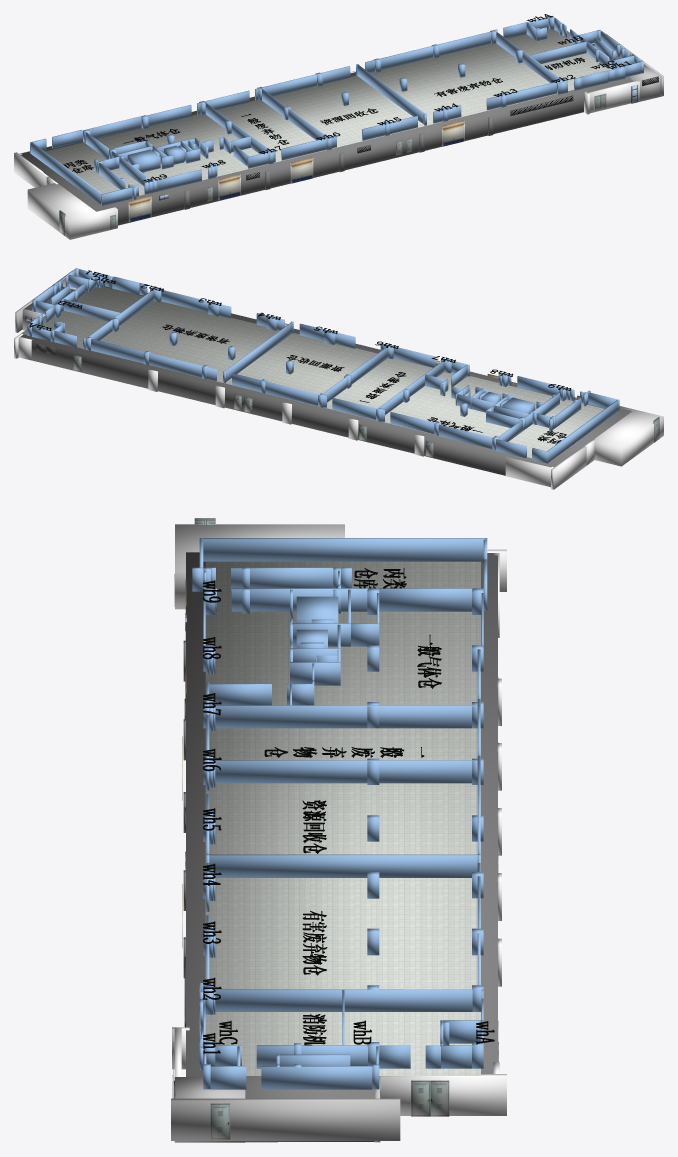
File: whfa_1f_mini.gltf
3 renders of one model, top to bottom at view 1: azimuth 30°, elevation 25°; view 2: azimuth 150°, elevation 25°; view 3: azimuth 270°, elevation 25°, orthographic. The views are drawn at different scales.
Parts seen in each view (by area): view 1: whfa_dimian_1f, whfa_waiguan_1_48, whfa_waiguan_1_39, whfa_qiang_1f_94, whfa_qiang_1f_92, whfa_qiang_1f_31, whfa_waiguan_1_16, whfa_qiang_1f_89, whfa_qiang_1f_118, whfa_qiang_1f_83, whfa_qiang_1f_107, whfa_waiguan_1_14 (+18 smaller); view 2: whfa_dimian_1f, whfa_waiguan_1_48, whfa_waiguan_1_39, whfa_qiang_1f_94, whfa_qiang_1f_92, whfa_qiang_1f_31, whfa_waiguan_1_36, whfa_qiang_1f_89, whfa_waiguan_1_14, whfa_qiang_1f_118, whfa_qiang_1f_83, whfa_qiang_1f_107 (+15 smaller); view 3: whfa_dimian_1f, whfa_waiguan_1_48, whfa_waiguan_1_30, whfa_qiang_1f_31, whfa_qiang_1f_89, whfa_qiang_1f_83, whfa_qiang_1f_82, whfa_qiang_1f_107, whfa_waiguan_1_15, whfa_waiguan_1_39, whfa_qiang_1f_152, whfa_qiang_1f_45 (+10 smaller).
Part boxes in pixels (box(x1,y1,x2,y2)): whfa_dimian_1f: box(32, 28, 611, 202); whfa_waiguan_1_48: box(21, 34, 632, 225); whfa_waiguan_1_39: box(27, 183, 117, 239); whfa_qiang_1f_94: box(365, 31, 491, 72); whfa_qiang_1f_92: box(255, 66, 350, 100); whfa_qiang_1f_31: box(31, 142, 102, 204); whfa_waiguan_1_16: box(586, 80, 639, 113); whfa_qiang_1f_89: box(357, 64, 425, 123); whfa_qiang_1f_118: box(486, 81, 559, 110); whfa_qiang_1f_83: box(261, 88, 327, 140); whfa_qiang_1f_107: box(496, 32, 560, 82); whfa_waiguan_1_14: box(14, 152, 48, 187); whfa_dimian_1f: box(21, 287, 617, 460); whfa_waiguan_1_48: box(20, 286, 631, 475); whfa_waiguan_1_39: box(594, 406, 663, 466); whfa_qiang_1f_94: box(91, 339, 216, 380); whfa_qiang_1f_92: box(232, 373, 326, 407); whfa_qiang_1f_31: box(546, 400, 618, 462); whfa_waiguan_1_36: box(505, 457, 553, 487); whfa_qiang_1f_89: box(225, 322, 292, 381); whfa_waiguan_1_14: box(551, 446, 586, 489); whfa_qiang_1f_118: box(161, 290, 231, 318); whfa_qiang_1f_83: box(321, 347, 387, 402); whfa_qiang_1f_107: box(89, 290, 153, 340); whfa_dimian_1f: box(205, 561, 480, 1075); whfa_waiguan_1_48: box(186, 552, 497, 1076); whfa_waiguan_1_30: box(171, 1098, 400, 1140); whfa_qiang_1f_31: box(203, 538, 485, 561); whfa_qiang_1f_89: box(209, 854, 477, 877); whfa_qiang_1f_83: box(209, 760, 477, 783); whfa_qiang_1f_82: box(209, 705, 477, 728); whfa_qiang_1f_107: box(215, 989, 472, 1011); whfa_waiguan_1_15: box(380, 1074, 506, 1115); whfa_waiguan_1_39: box(175, 524, 344, 609); whfa_qiang_1f_152: box(261, 1066, 372, 1089); whfa_qiang_1f_45: box(231, 588, 367, 611).
Bounding box in the file's own units: 353 × 18.62 × 86.62.
13 materials, 8 textured.
